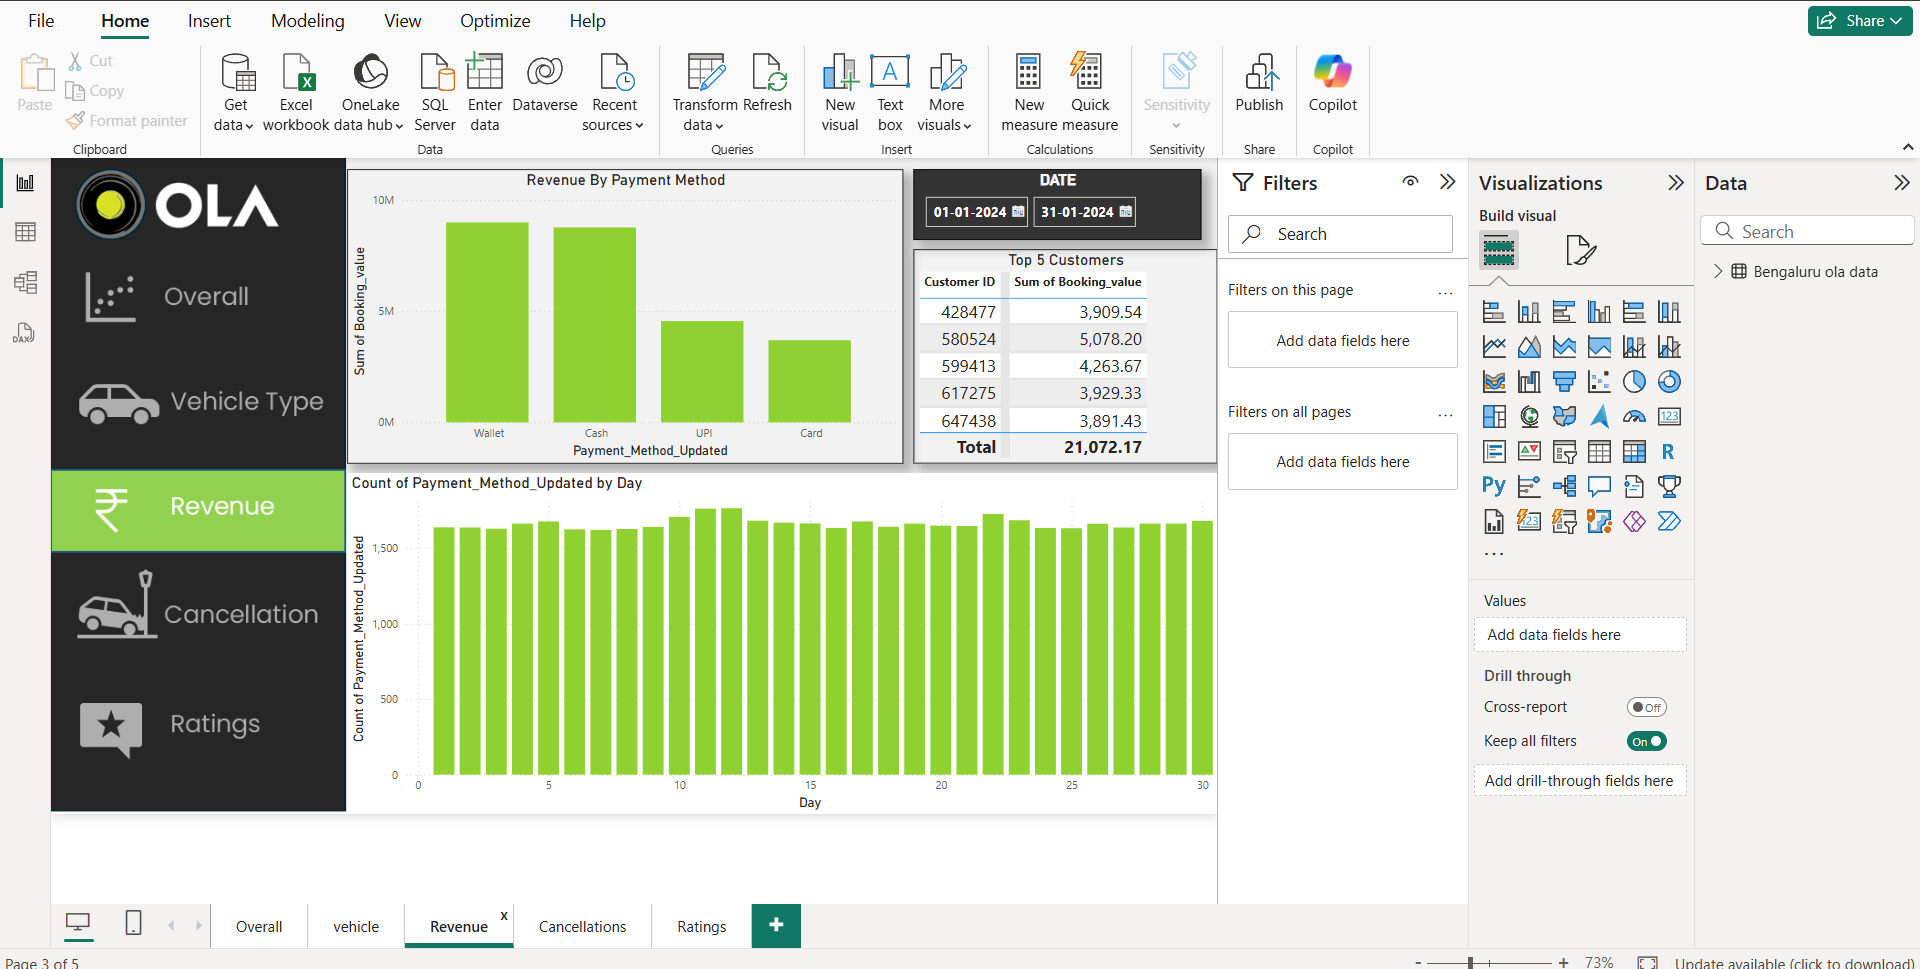

The page's visual inventory and layout, read from the dashboard file:
{"tool":"powerbi","page":{"name":"Revenue","canvas":[1280,720],"ordinal":2},"visuals":[{"type":"actionButton","box":[0,446,323.8,81],"z":0},{"type":"actionButton","box":[0,583.2,323.8,81],"z":1000},{"type":"actionButton","box":[0,229.2,323.8,81],"z":2000},{"type":"actionButton","box":[0,115.3,323.8,81],"z":3000},{"type":"columnChart","title":"Revenue By Payment Method","fields":{"Y":["Sum(Bengaluru ola data.Booking_value)"],"Category":["Bengaluru ola data.Payment_Method_Updated"]},"box":[324.5,11.9,610.4,323.1],"z":4000},{"type":"tableEx","title":"Top 5 Customers","fields":{"Values":["Bengaluru ola data.Customer ID","Sum(Bengaluru ola data.Booking_value)"]},"box":[946.8,99.7,333.5,235.2],"z":5000},{"type":"columnChart","fields":{"Category":["Bengaluru ola data.Date.Variation.Date Hierarchy.Day"],"Y":["CountNonNull(Bengaluru ola data.Payment_Method_Updated)"]},"box":[324.5,345.4,955.8,375.2],"z":6000},{"type":"slicer","title":"DATE","fields":{"Values":["Bengaluru ola data.Date"]},"box":[946.8,11.9,315.6,77.4],"z":7000}]}

Visuals, with their boxes on the page's 1280x720 design canvas (x1, y1, x2, y2). These are canvas units, not pixel positions in the 1920x969 screenshot, which may show the page scaled, cropped or inside an application window:
actionButton: rect(0, 446, 324, 527)
actionButton: rect(0, 583, 324, 664)
actionButton: rect(0, 229, 324, 310)
actionButton: rect(0, 115, 324, 196)
"Revenue By Payment Method" columnChart: rect(324, 12, 935, 335)
"Top 5 Customers" tableEx: rect(947, 100, 1280, 335)
columnChart - Bengaluru ola data.Date.Variation.Date Hierarchy.Day x CountNonNull(Bengaluru ola data.Payment_Method_Updated): rect(324, 345, 1280, 721)
"DATE" slicer: rect(947, 12, 1262, 89)
